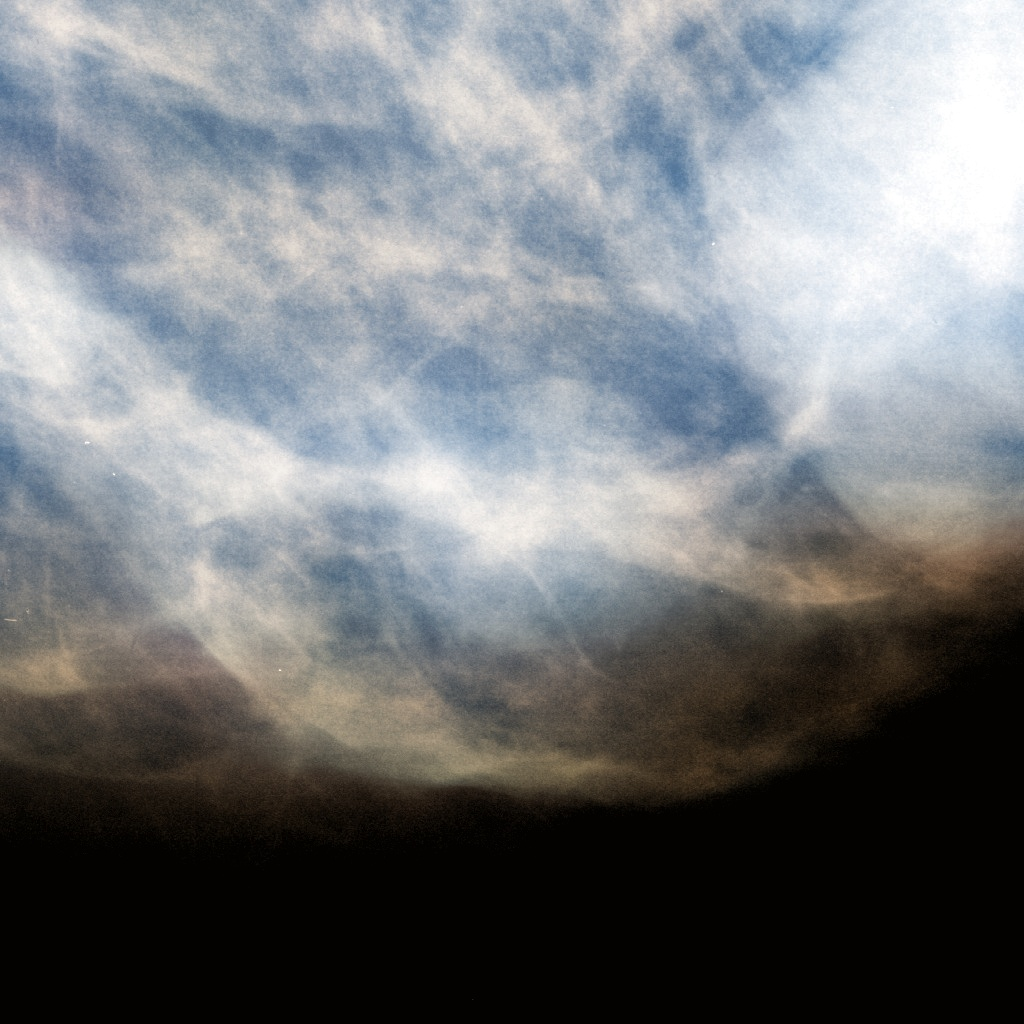tumor: (365, 368, 659, 656)
